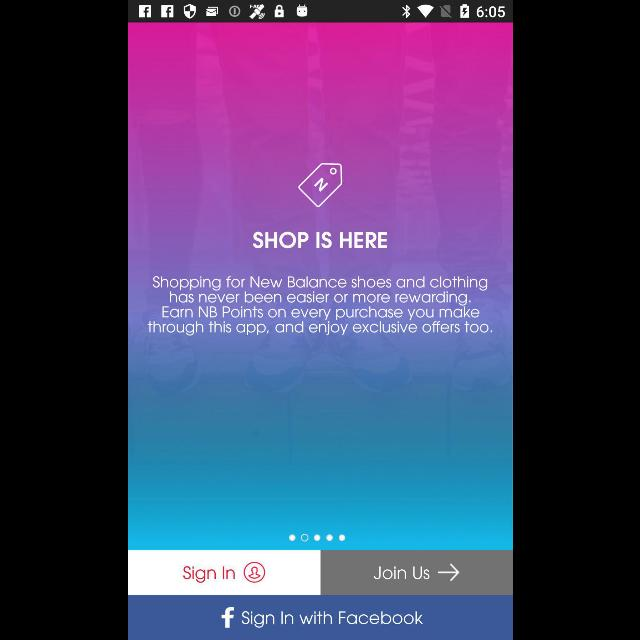image: (297, 162, 341, 208)
pageindicator: (288, 534, 344, 542)
text: (147, 276, 491, 336), (252, 232, 386, 248)
textbutton: (128, 596, 512, 640), (127, 551, 319, 595), (320, 551, 512, 595)
uppertaskbar: (128, 1, 512, 23)
